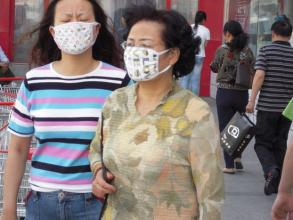OK: (55, 12, 99, 57), (126, 37, 170, 81)
